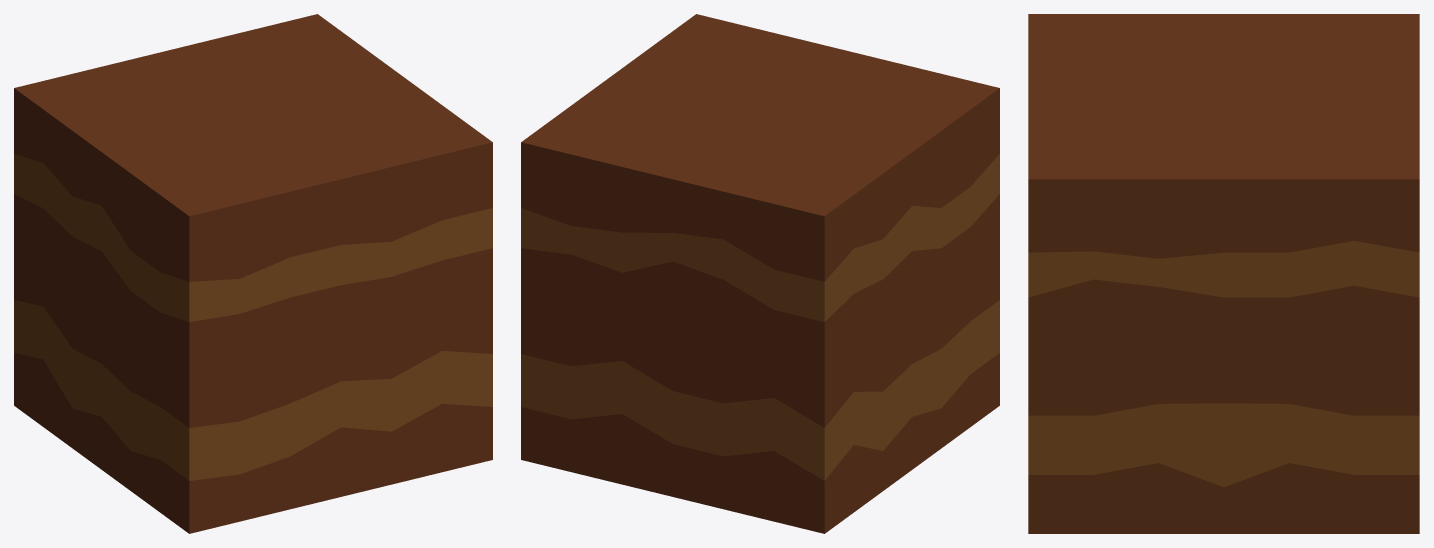
File: dirtCube.fbx
The picture shows the model from 3 angles, left to right: view 1: azimuth 30°, elevation 25°; view 2: azimuth 150°, elevation 25°; view 3: azimuth 270°, elevation 25°; orthographic projection. The views are drawn at different scales.
Visible parts, largest first — view 1: Dirt Cube; view 2: Dirt Cube; view 3: Dirt Cube.
Part boxes in pixels (x1,y1,x2,y2): Dirt Cube: [14, 14, 492, 533]; Dirt Cube: [521, 14, 999, 533]; Dirt Cube: [1028, 14, 1419, 533].
Bounding box in the file's own units: 200 × 200 × 200.
